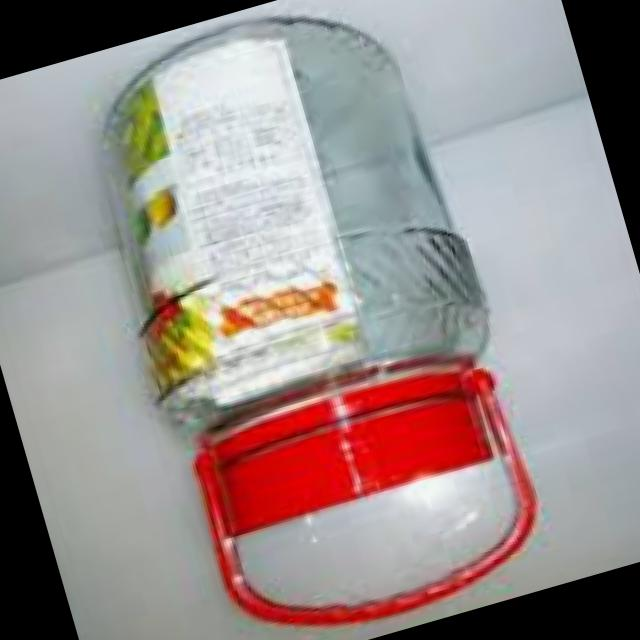ToplesKaca: (54, 0, 566, 640)
